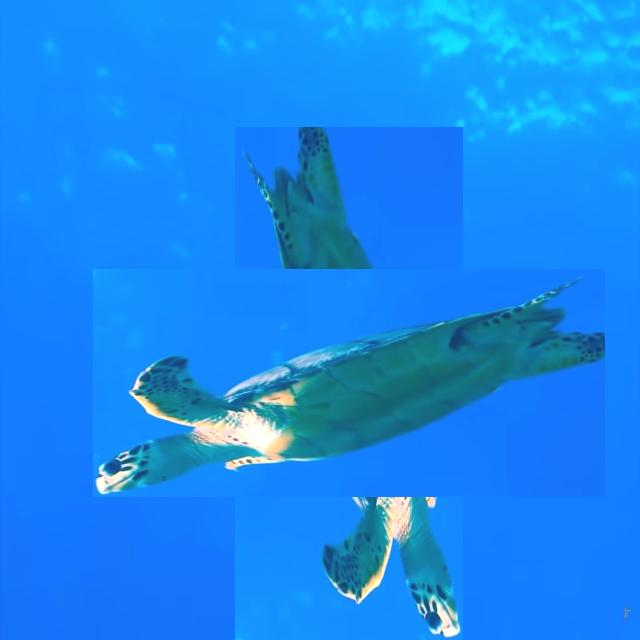Sea turtle: (164, 198, 534, 569)
